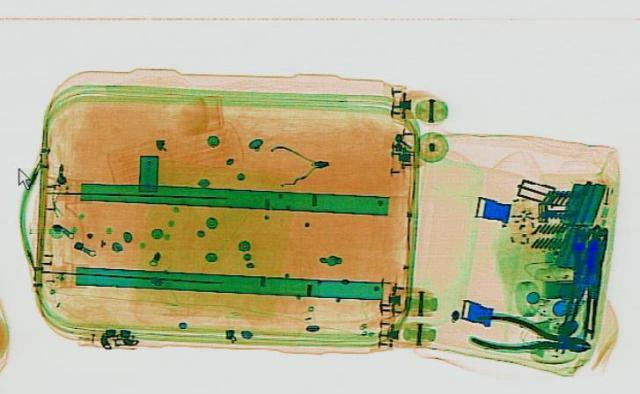Pliers: (459, 307, 598, 364)
